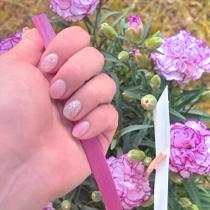nail: (62, 72, 116, 120), (39, 25, 90, 73), (62, 99, 81, 119), (48, 78, 66, 99), (40, 52, 58, 72), (71, 120, 89, 138)
